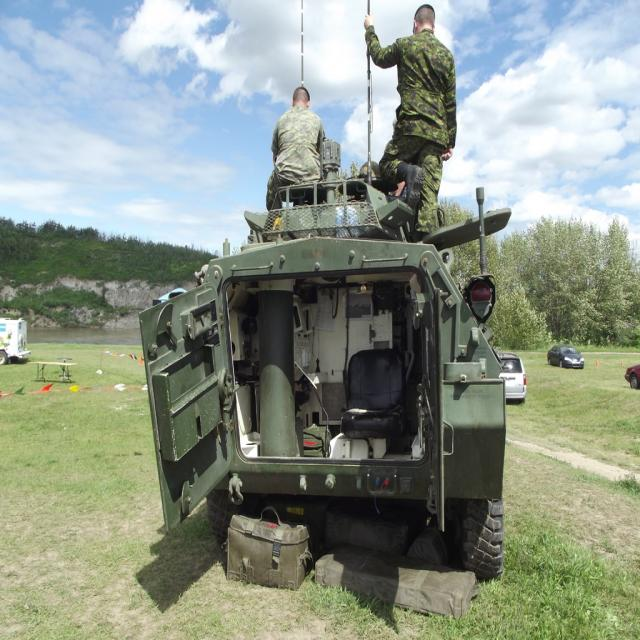tank: (136, 0, 513, 578)
